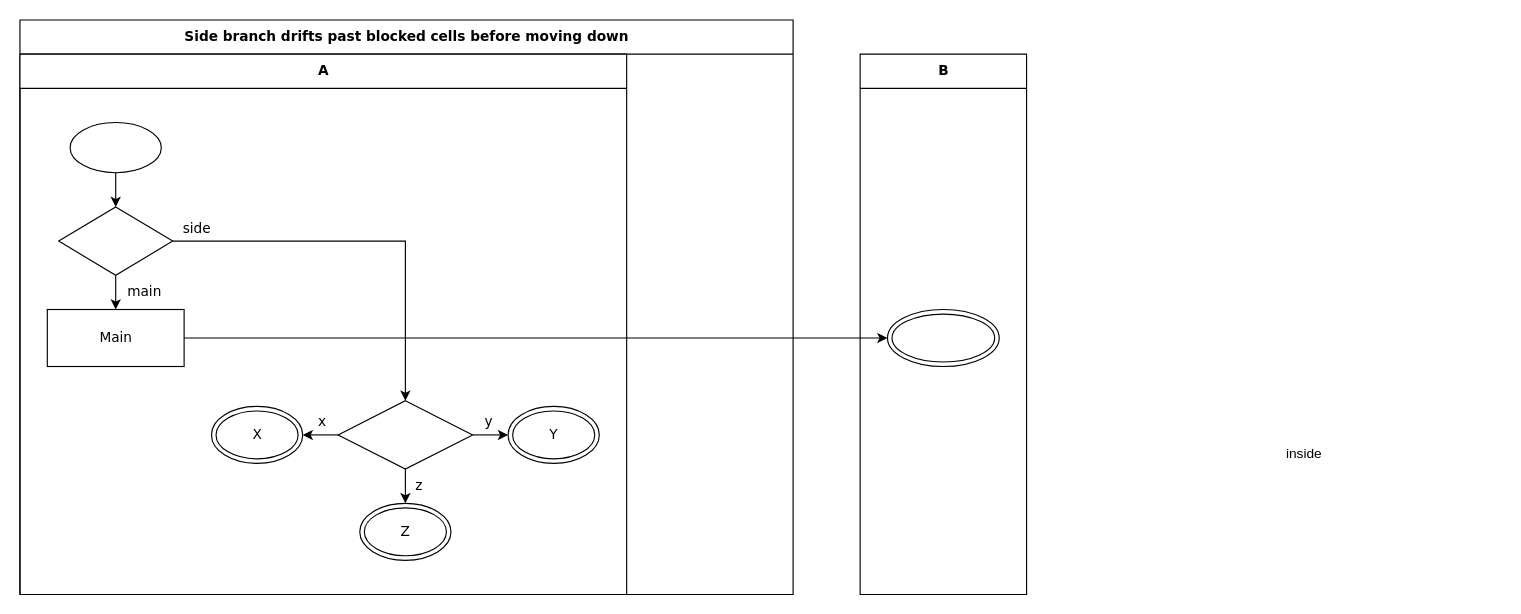
The diagram is 1521 pixels wide and 614 high, and some of its shapes have lost their labels. Here are the shapes that lost their labels. From the top down, the box of each, then its label:
(69, 121, 161, 173): In
(58, 206, 173, 275): Turn?
(886, 308, 999, 367): To B
(337, 400, 473, 469): Three way?
